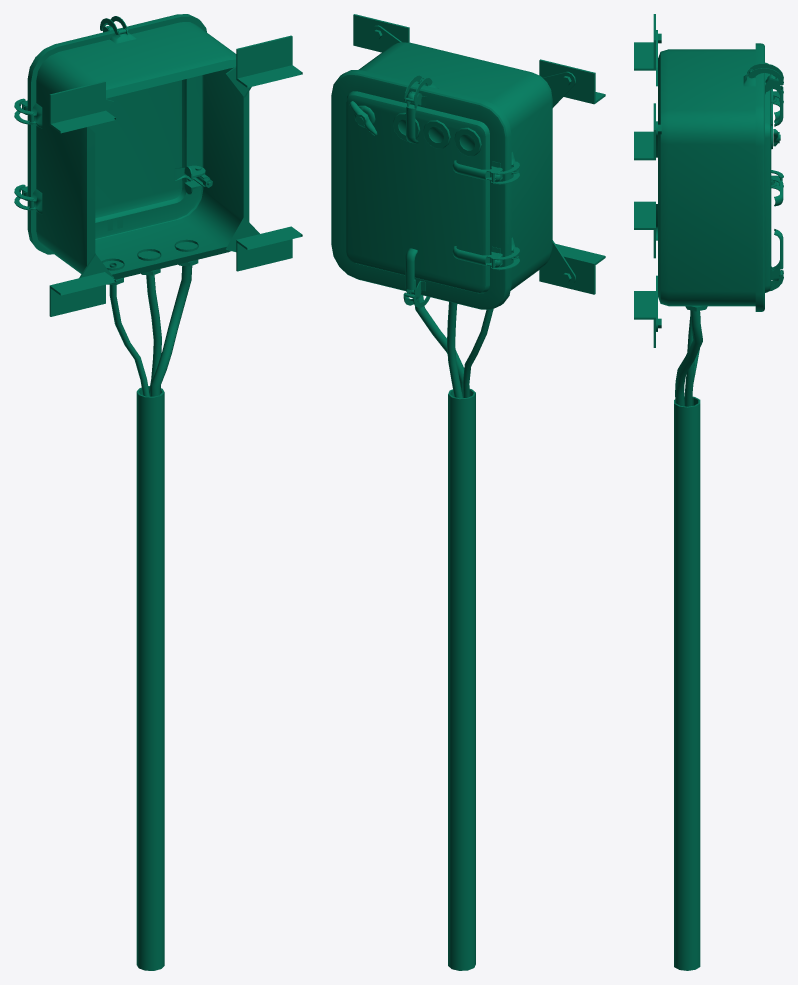
File: Engine7.fbx
The picture shows the model from 3 angles, left to right: view 1: azimuth 30°, elevation 25°; view 2: azimuth 150°, elevation 25°; view 3: azimuth 270°, elevation 25°; orthographic projection.
Parts seen in each view (by area): view 1: Stuff.002; view 2: Stuff.002; view 3: Stuff.002.
Part boxes in pixels (x1,y1,x2,y2): Stuff.002: [14, 14, 302, 970]; Stuff.002: [331, 14, 605, 970]; Stuff.002: [634, 14, 783, 970].
Size of the model in its own units: 49.54 by 179 by 27.05.
